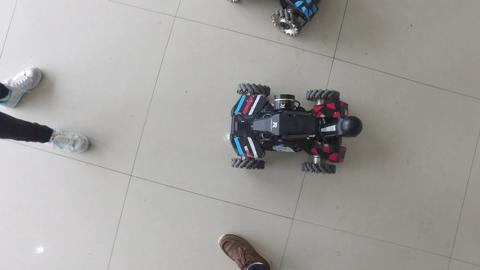chariot: (218, 78, 365, 181)
